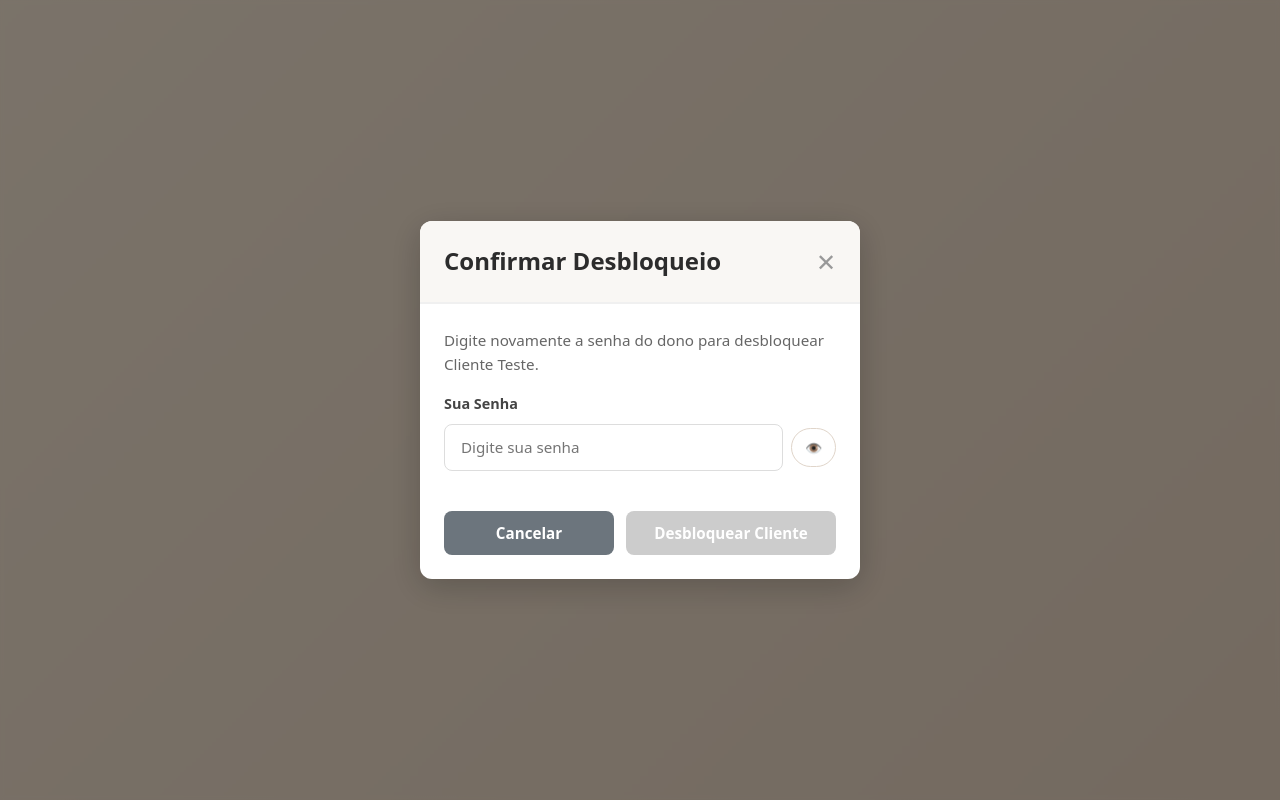
it: AdminBlockConfirmModal security flow › mostra erro em toast quando a senha esta incorreta ao unblock
The image size is (1280, 800).
In the password field with placeholder "Digite sua senha": (614, 447) [444,424,783,471], type "senha-errada"
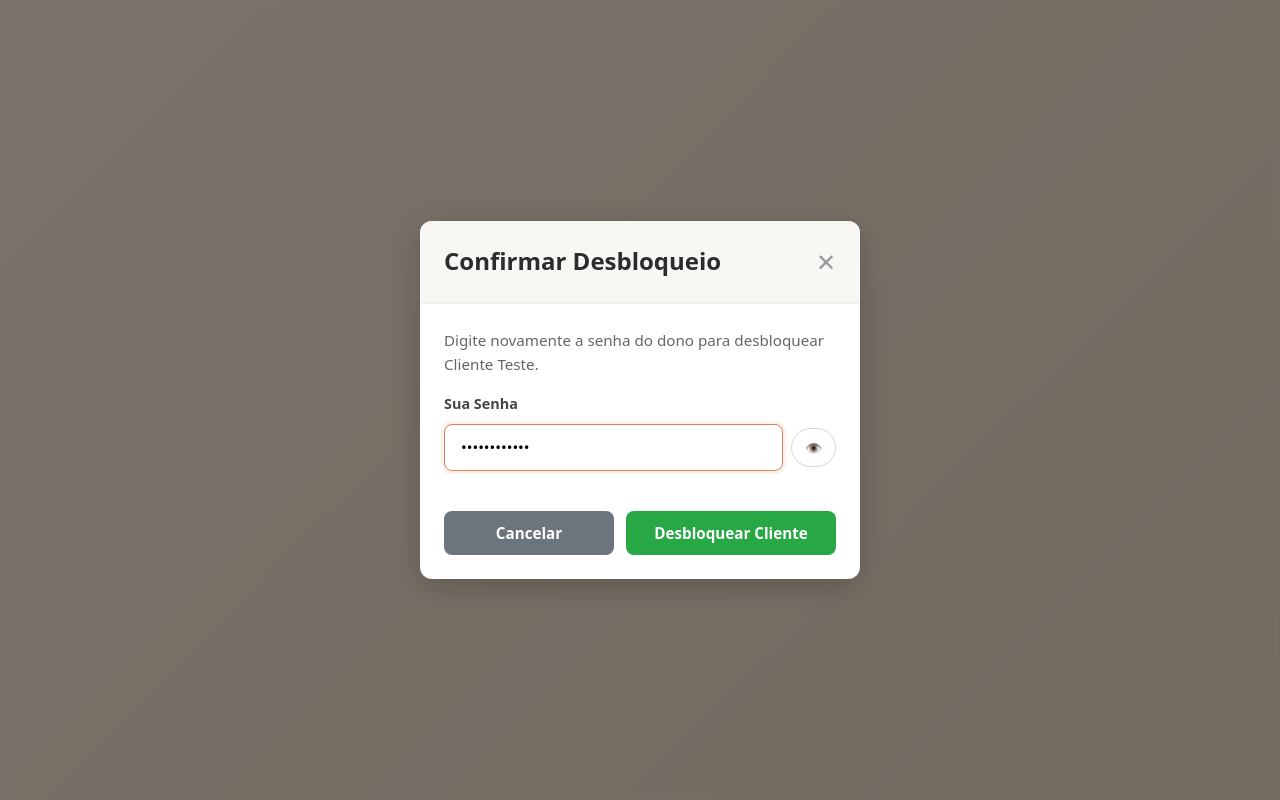
Click the button "Desbloquear Cliente": (731, 533) [626,511,836,555]
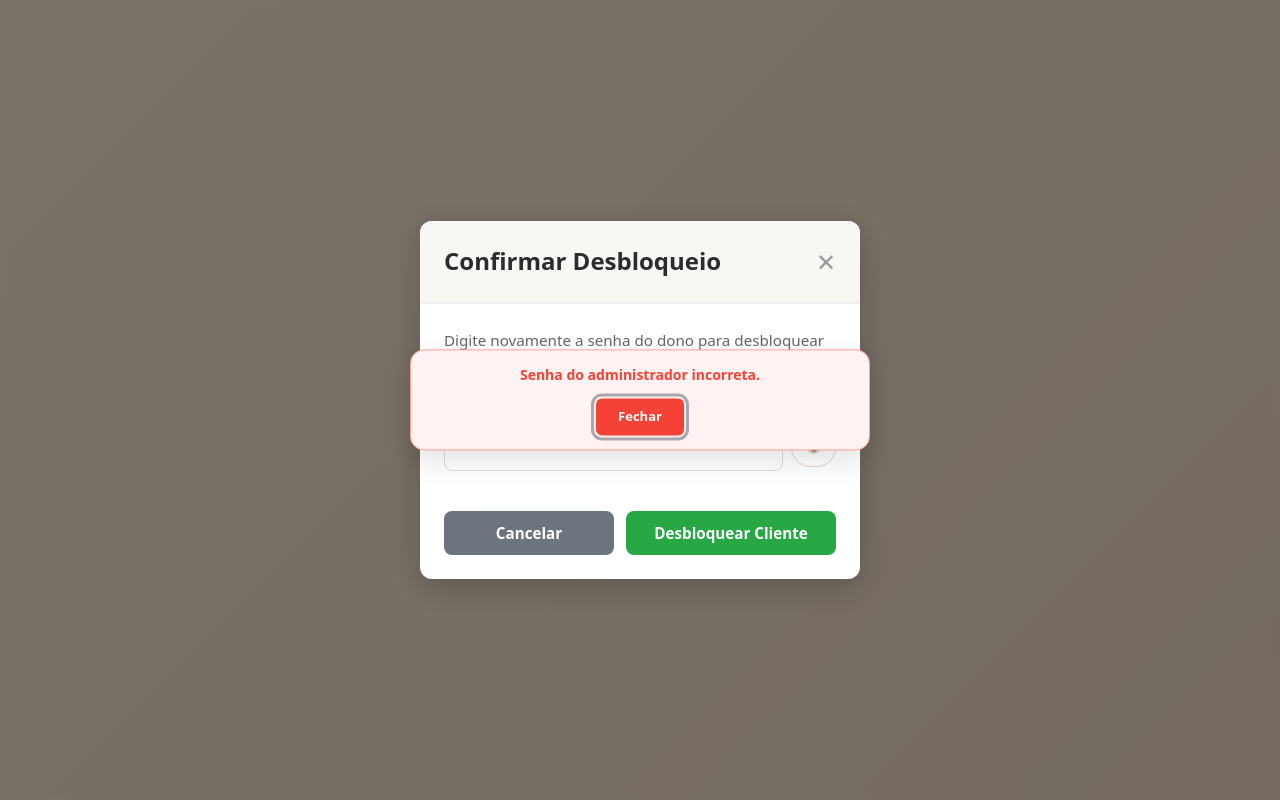
expect the text "Senha do administrador incorreta." is shown: met, box [520,364,760,387]
